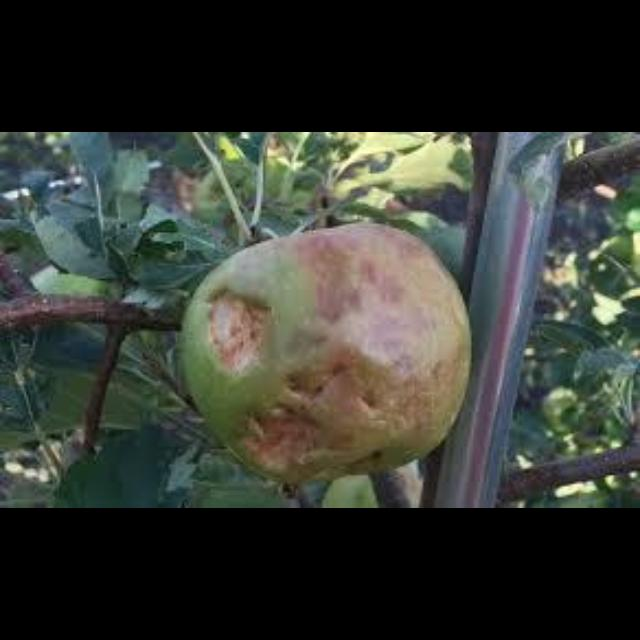apple: (175, 222, 471, 483)
bruise: (339, 268, 427, 360)
scratch: (241, 398, 326, 474), (207, 293, 277, 377)
